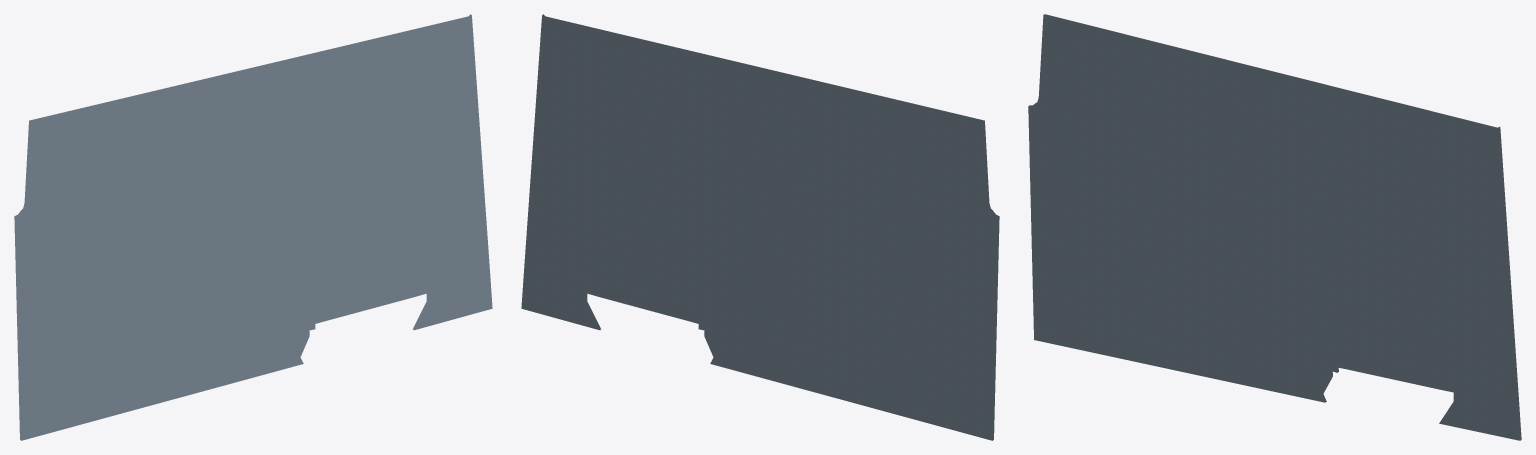
The model's file is floor_16.obj.
3 renders of one model, left to right at view 1: azimuth 30°, elevation 25°; view 2: azimuth 150°, elevation 25°; view 3: azimuth 330°, elevation 25°, orthographic. The views are drawn at different scales.
Parts seen in each view (by area): view 1: floor_16; view 2: floor_16; view 3: floor_16.
Boxes of the visible parts, <box> form: floor_16: <box>14,14,492,440</box>; floor_16: <box>521,14,999,440</box>; floor_16: <box>1028,14,1521,440</box>.
Size of the model in its own units: 28.02 by 17.81 by 0.1.
1 material, 1 textured.
